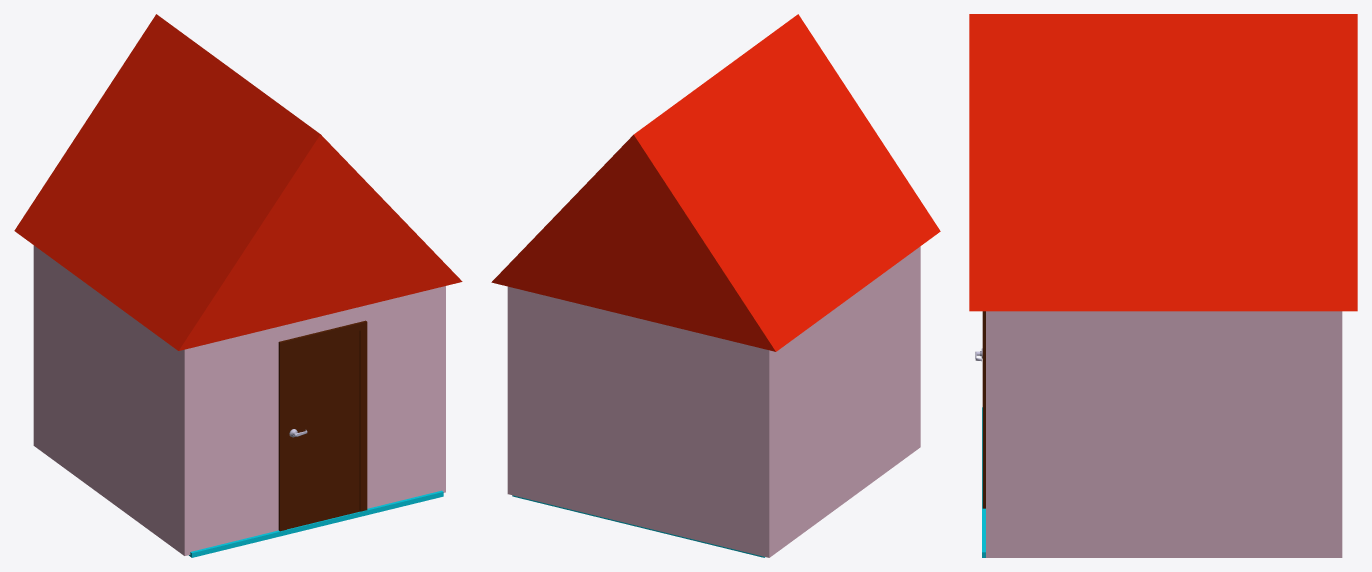
Rendered from hause.fbx.
The picture shows the model from 3 angles, left to right: view 1: azimuth 30°, elevation 25°; view 2: azimuth 150°, elevation 25°; view 3: azimuth 270°, elevation 25°; orthographic projection. The views are drawn at different scales.
Parts seen in each view (by area): view 1: Room, Door, DoorFrame; view 2: Room; view 3: Room, DoorFrame.
Part boxes in pixels (left/top/right/bottom): Room: left=14, top=14, right=462, bottom=557; Door: left=287, top=331, right=359, bottom=529; DoorFrame: left=278, top=320, right=367, bottom=531; Room: left=491, top=14, right=940, bottom=557; Room: left=969, top=14, right=1357, bottom=557; DoorFrame: left=982, top=311, right=985, bottom=508.
Size of the model in its own units: 16.32 by 16.34 by 21.81.
